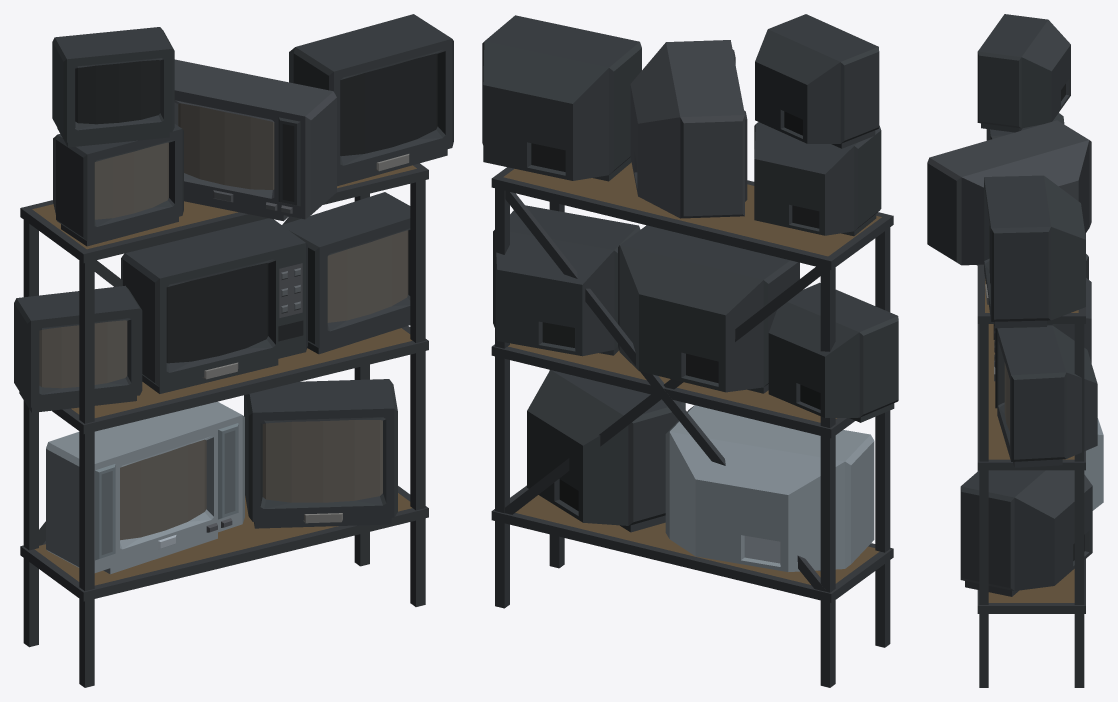
File: SM_Prop_Electronics_Shelf_Preset_02.glb
The picture shows the model from 3 angles, left to right: view 1: azimuth 30°, elevation 25°; view 2: azimuth 150°, elevation 25°; view 3: azimuth 270°, elevation 25°; orthographic projection. The views are drawn at different scales.
Visible parts, largest first — view 1: SM_Prop_Electronics_Shelf_Preset_02; view 2: SM_Prop_Electronics_Shelf_Preset_02; view 3: SM_Prop_Electronics_Shelf_Preset_02.
Boxes of the visible parts, left/top/right/bottom form: SM_Prop_Electronics_Shelf_Preset_02: left=14, top=14, right=453, bottom=687; SM_Prop_Electronics_Shelf_Preset_02: left=482, top=14, right=898, bottom=687; SM_Prop_Electronics_Shelf_Preset_02: left=927, top=14, right=1103, bottom=687.
Size of the model in its own units: 2.13 by 3.06 by 0.924.
Materials: 1 (1 with a texture image).
